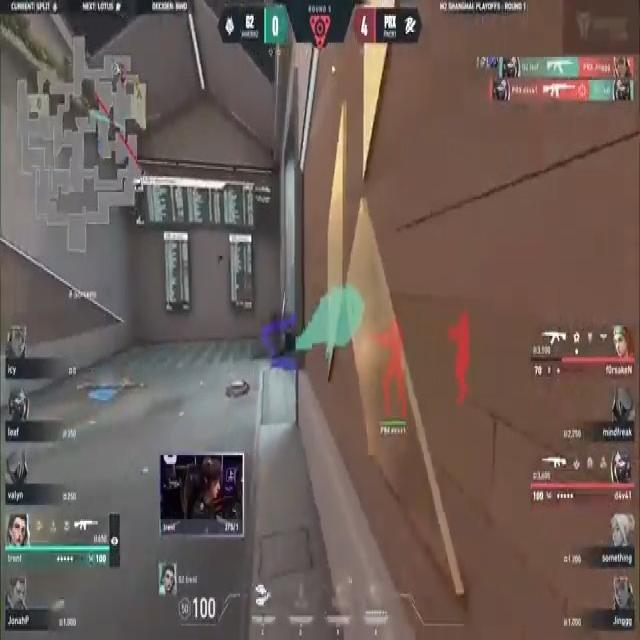enemy behind wall: (378, 313, 412, 424), (448, 307, 474, 413)
